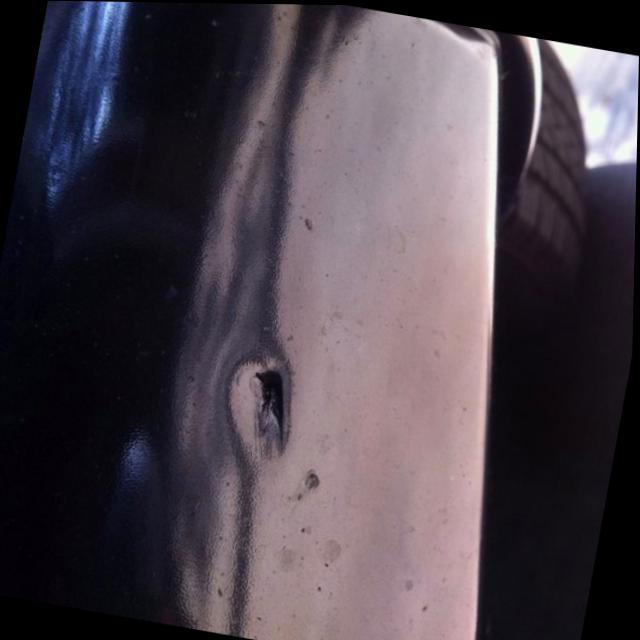Crack: (248, 359, 292, 455)
